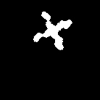single_crochet: (33, 12, 71, 49)
